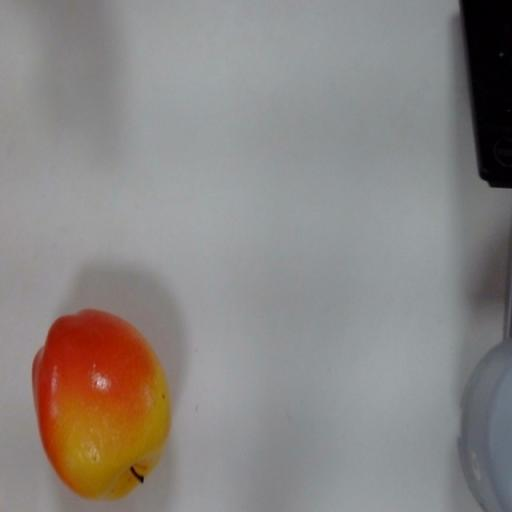Ripe: (28, 303, 188, 499)
